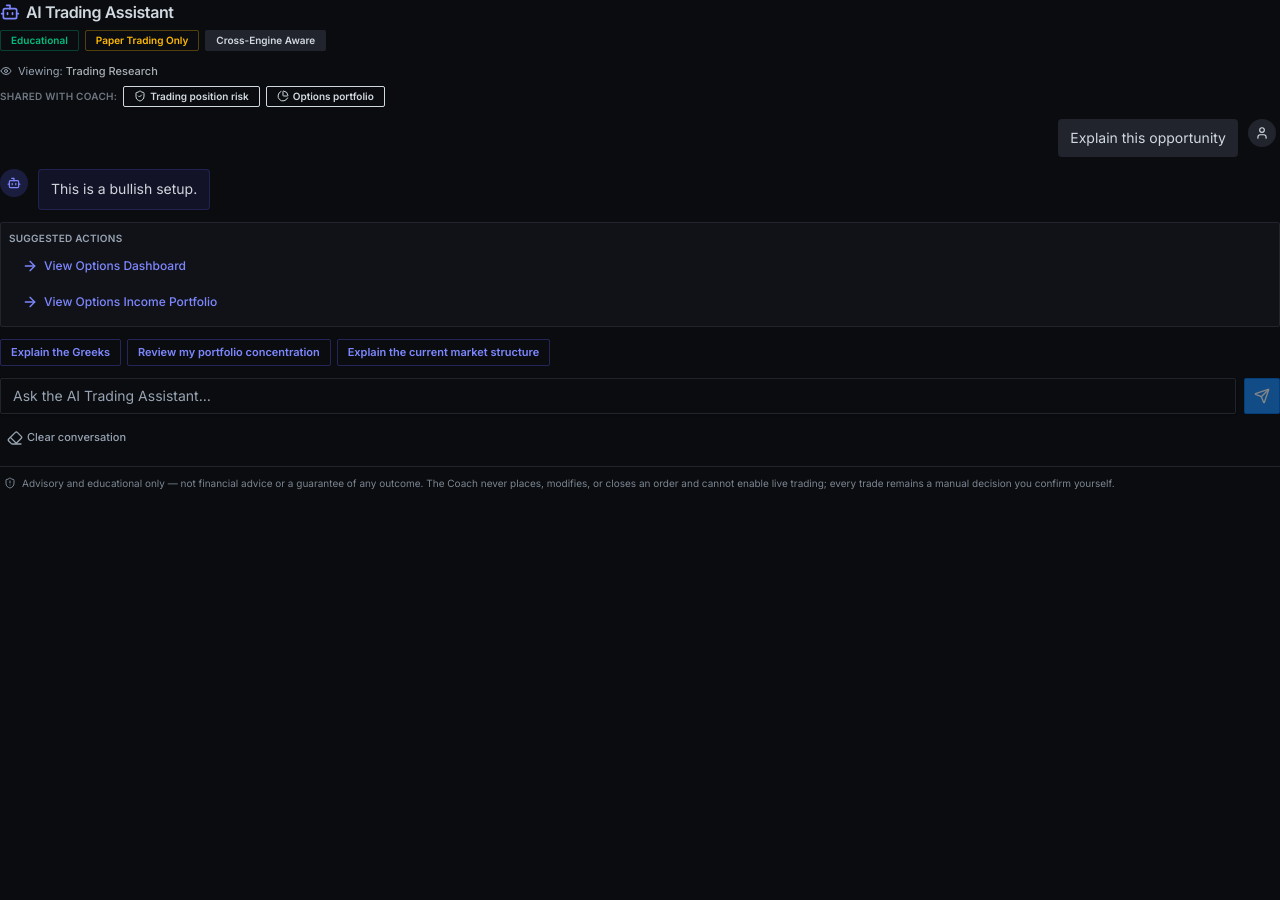
Test: TradingCoachWorkspace — clear conversation confirmation › clearing the conversation (after confirming) hides the previously-visible history
Expected: the text "Explain this opportunity" is shown, [1070,126,1226,149]
What coordinates should you click on to do the following:
click the button with test id "button-trading-coach-clear-conversation"
I would click on:
 (67, 438)
Its box is [0,422,133,454].
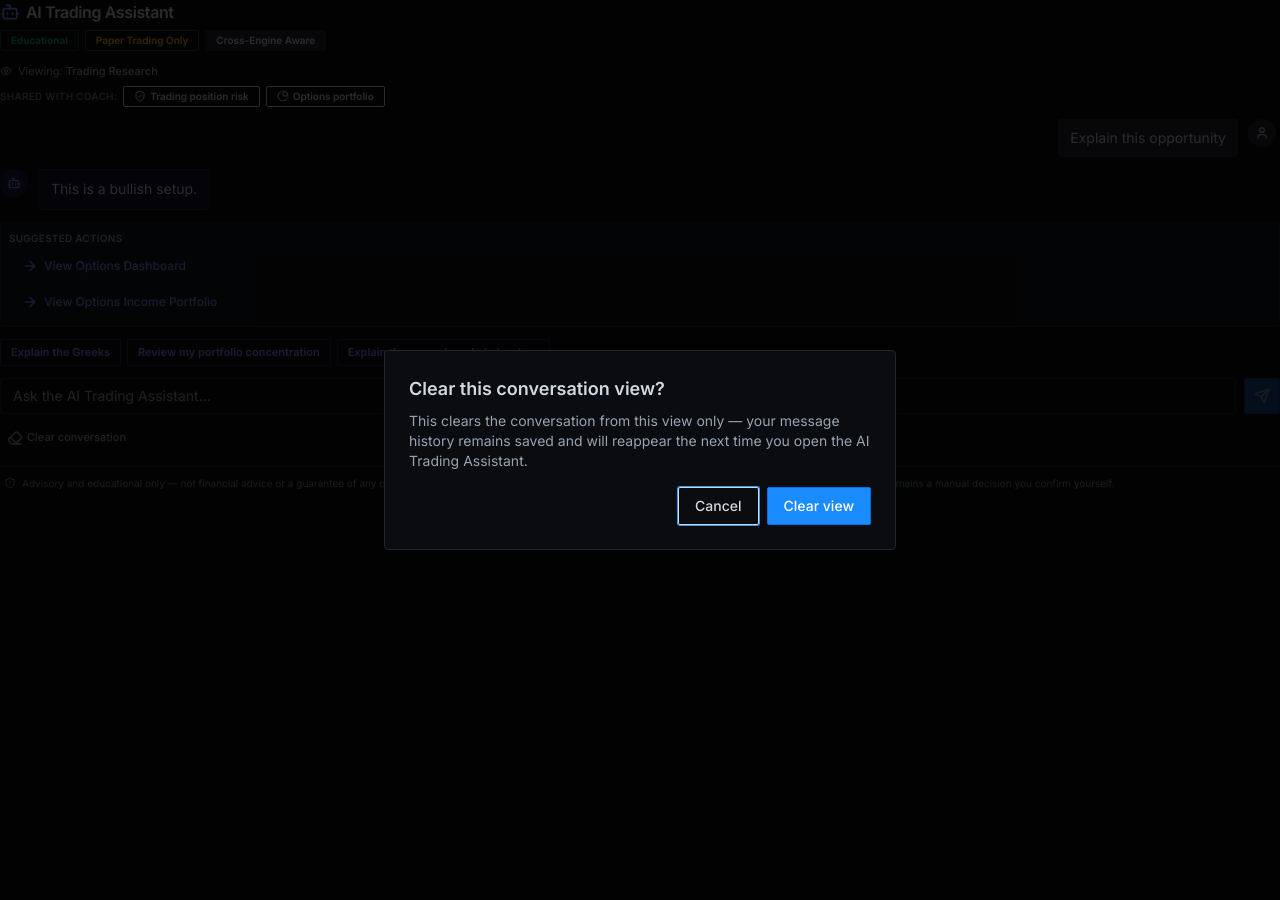
What coordinates should you click on to do the following:
click the button with test id "button-trading-coach-clear-confirm"
I would click on:
 (819, 506)
Its box is [767,487,871,525].
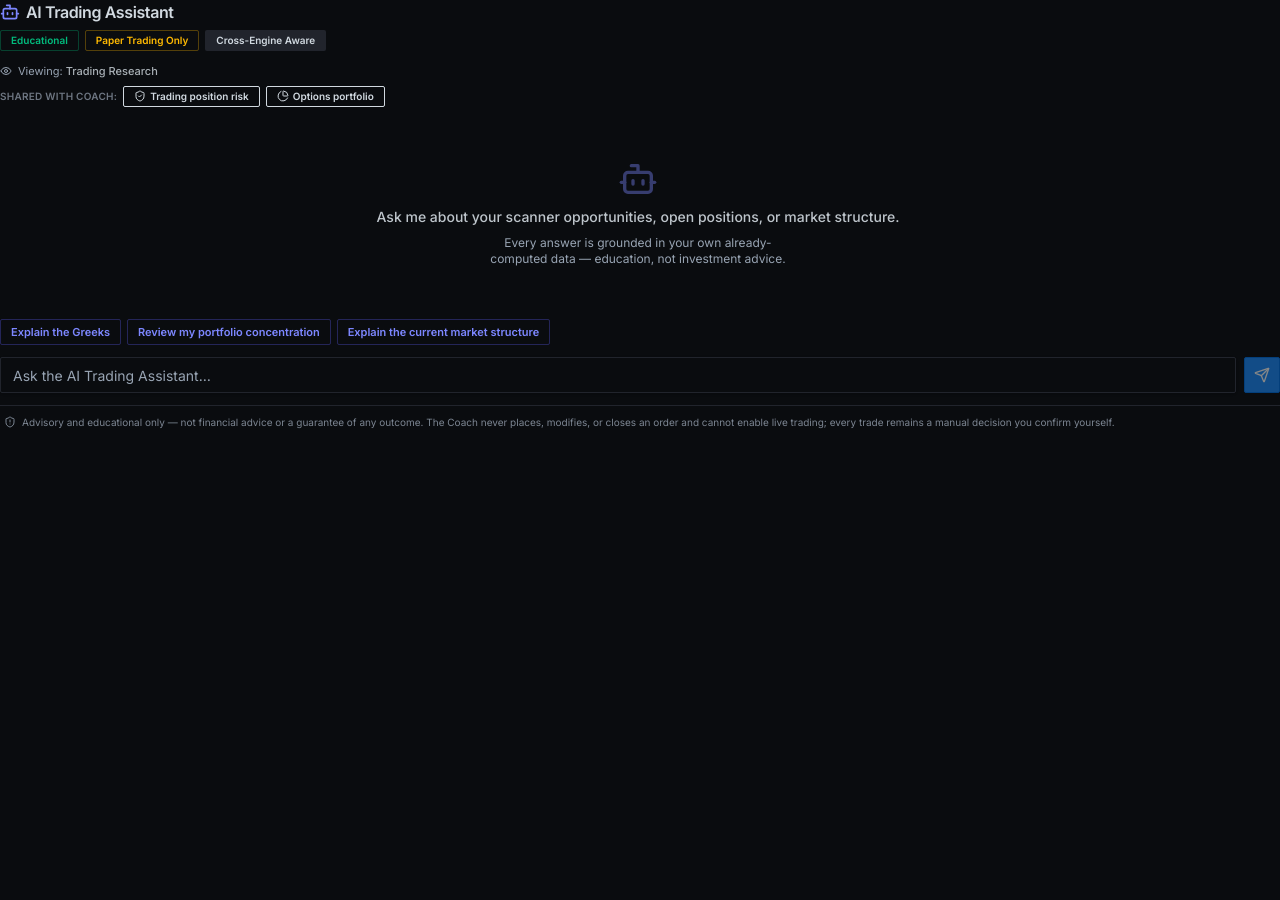
Expected: the text "Explain this opportunity" is gone
Expected: the element with test id "trading-coach-empty" is shown, [376,158,900,266]
